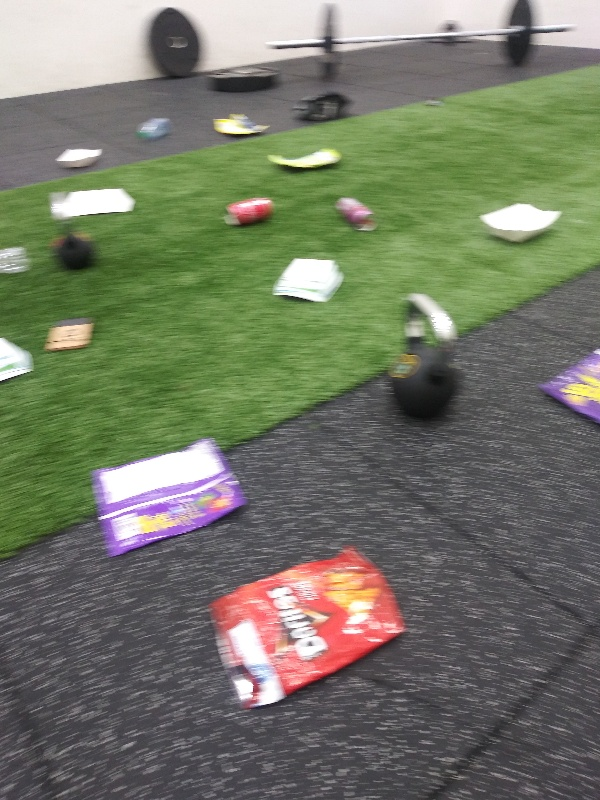bag: (208, 542, 410, 713), (90, 435, 250, 559), (536, 344, 600, 432), (261, 147, 346, 173), (210, 110, 273, 140)
bottle: (133, 113, 177, 146)
can: (219, 195, 278, 232), (329, 194, 379, 235)
plate: (474, 201, 567, 250), (267, 256, 348, 306), (64, 184, 138, 219), (1, 332, 36, 388), (51, 145, 105, 171)
